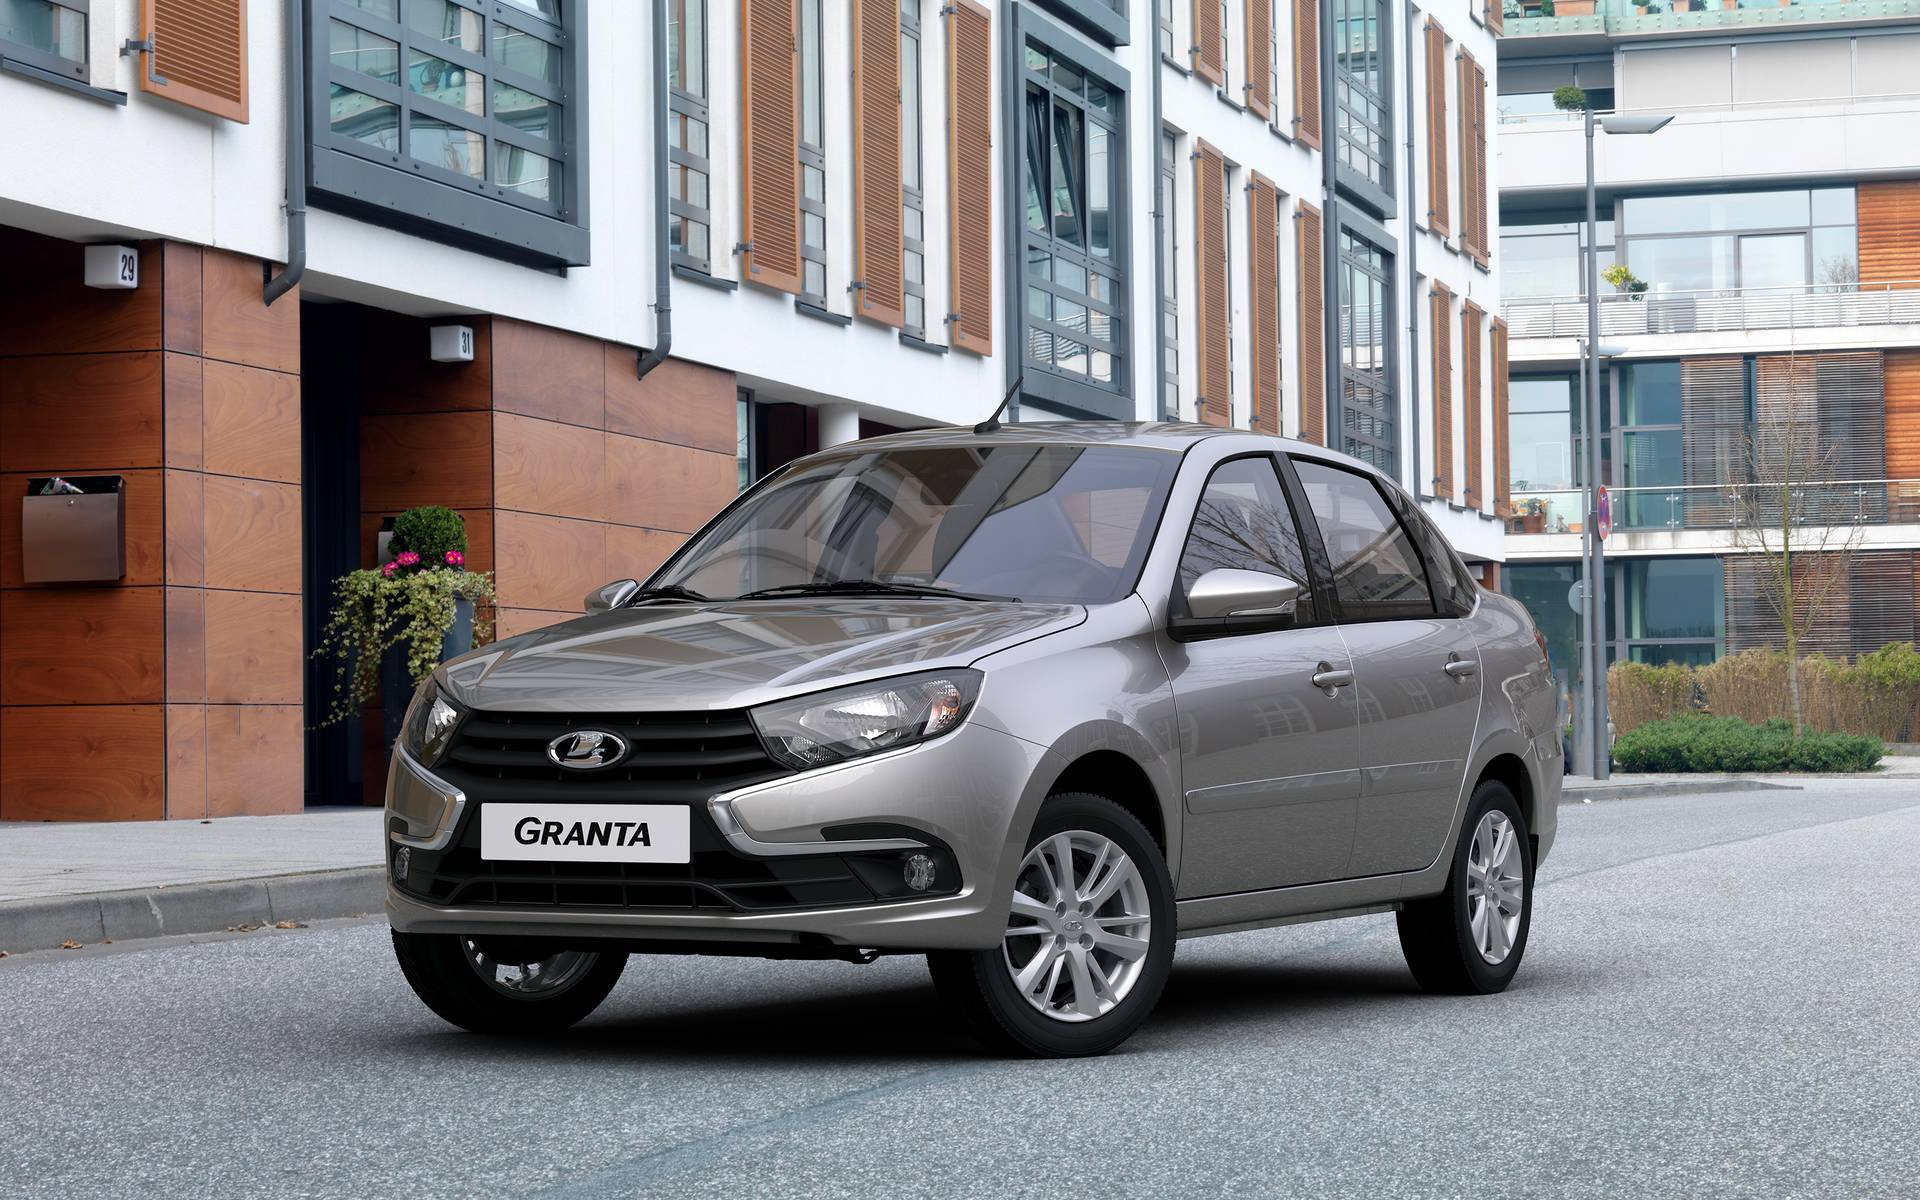car: (382, 419, 1563, 1060)
